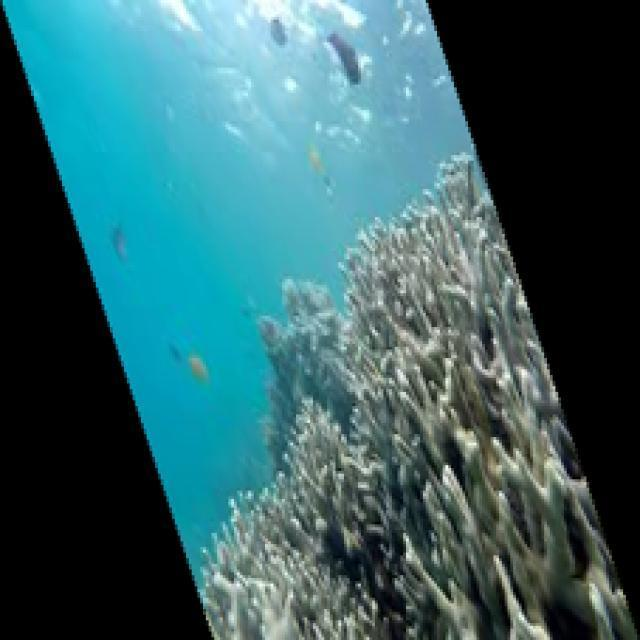Bleached: (336, 151, 640, 640), (190, 395, 390, 640), (258, 269, 357, 473)
